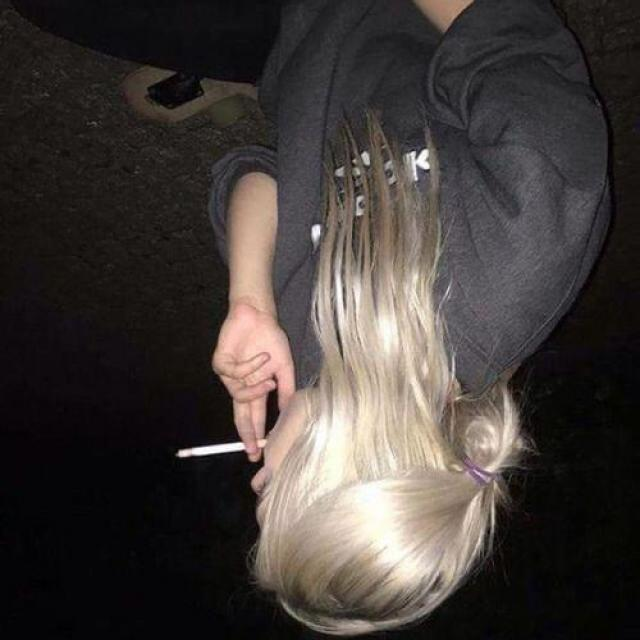cigarette: (150, 404, 296, 474)
